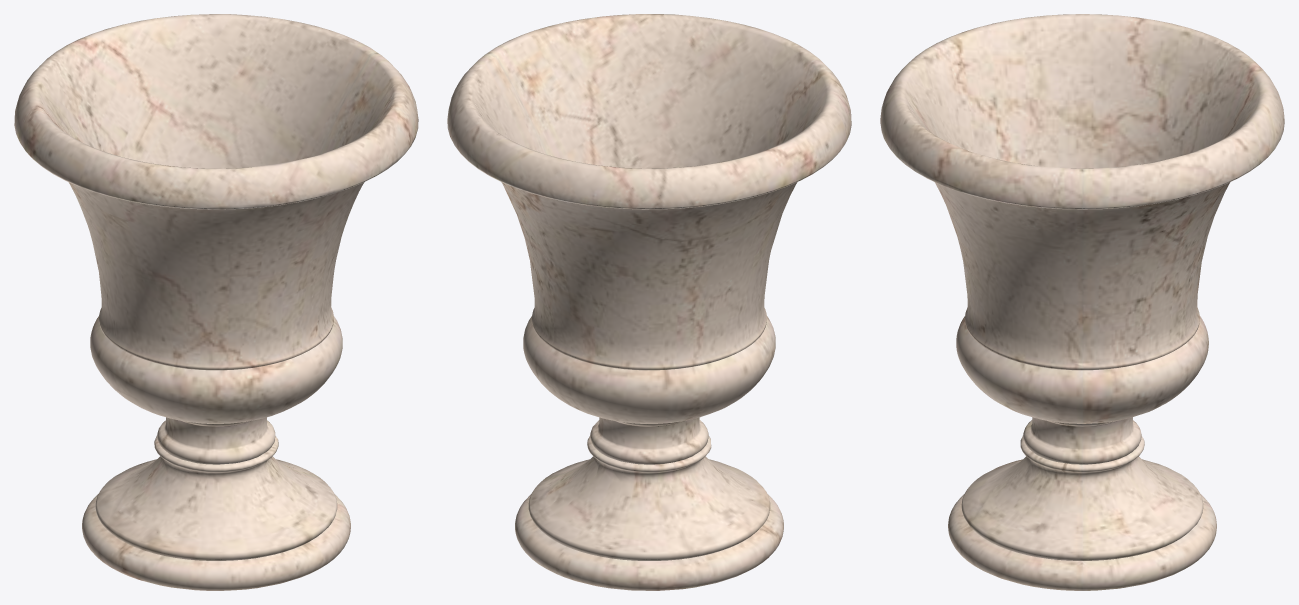
3 views of the same model, side by side, from view 1: azimuth 30°, elevation 25°; view 2: azimuth 150°, elevation 25°; view 3: azimuth 270°, elevation 25° (orthographic).
Parts seen in each view (by area): view 1: MarbleVase001 Solid_0; view 2: MarbleVase001 Solid_0; view 3: MarbleVase001 Solid_0.
Part boxes in pixels (x1,y1,x2,y2): MarbleVase001 Solid_0: (14,14,418,590); MarbleVase001 Solid_0: (447,14,851,590); MarbleVase001 Solid_0: (880,14,1284,590).
Size of the model in its own units: 0.5571 by 0.679 by 0.5571.
Materials: 1 (1 with a texture image).
